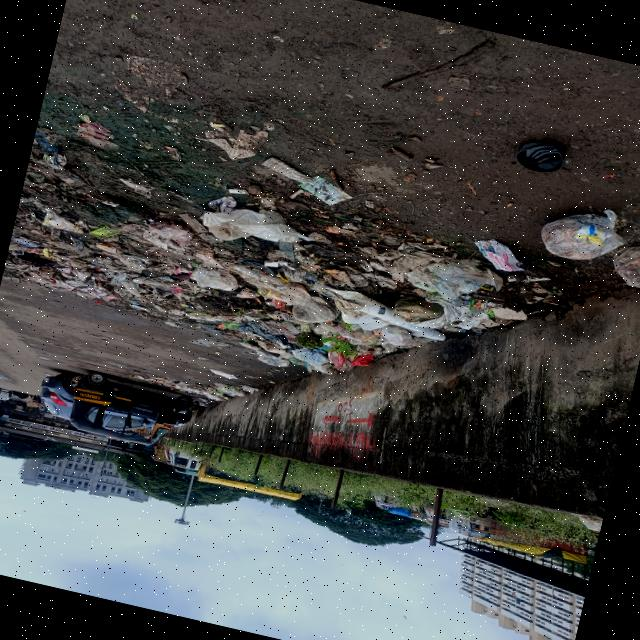garbage: (0, 89, 391, 382), (348, 208, 640, 381)
